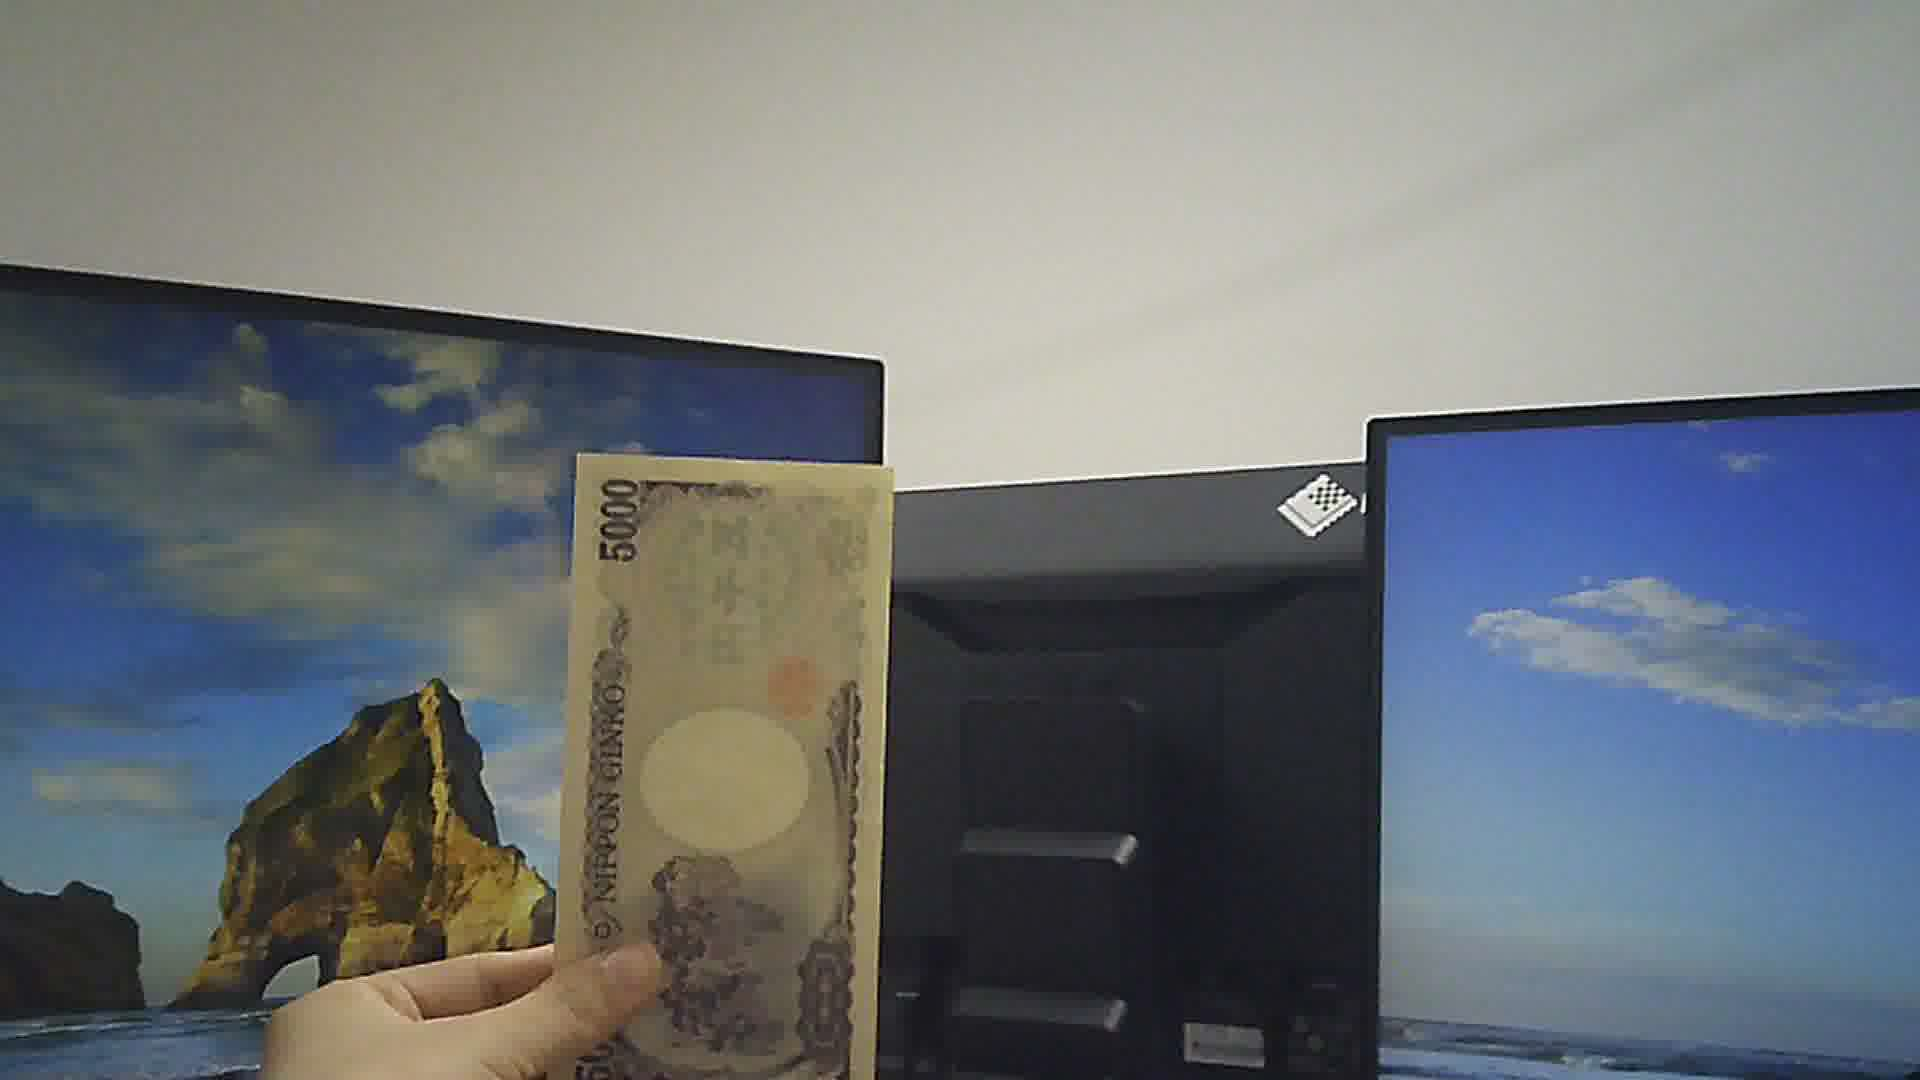5,000 Yen: (527, 433, 897, 1079)
